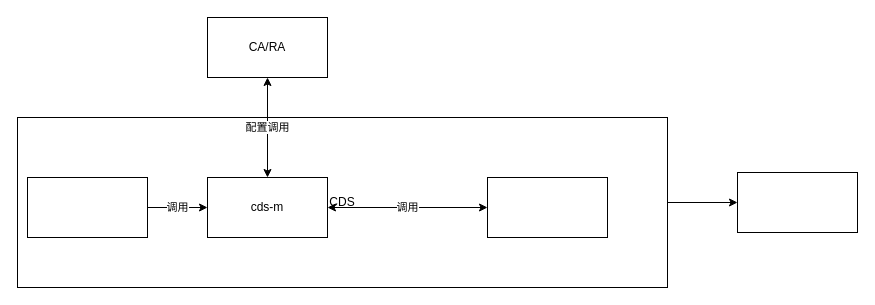
This 875x305 diagram has some shape labels left out. The centre of each missing label's shape, as x and y in pixels:
"cds-s" goes at [87,207].
"cds-sks" goes at [547,207].
